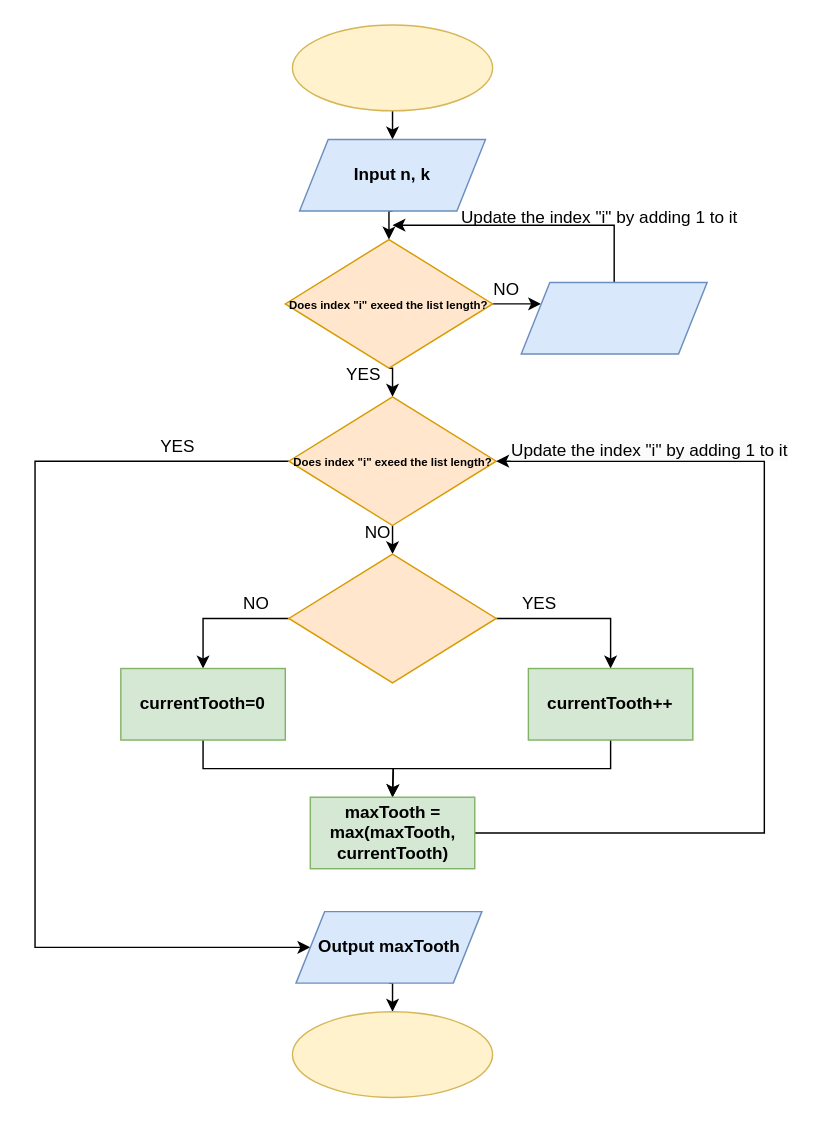
The diagram is 832 pixels wide and 1123 high, and some of its shapes have lost their labels. The shapes that lost their labels are listed below. From the top down, each one's centre as x and y in pixels, then its label:
At pixel 392 67: "Start".
At pixel 613 317: "Input numbers[i]".
At pixel 391 618: "a[i]>=k?".
At pixel 392 1054: "Finish".
